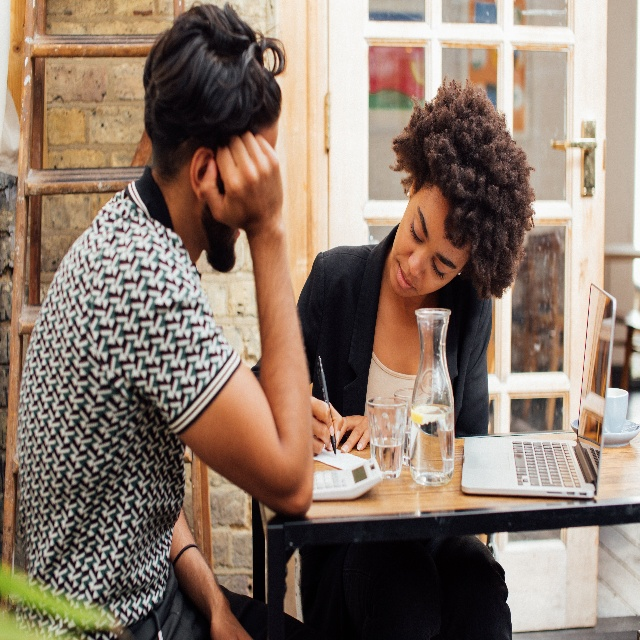Sin_guantes: (203, 134, 284, 237), (207, 599, 256, 640), (310, 400, 343, 460), (334, 414, 371, 453)
